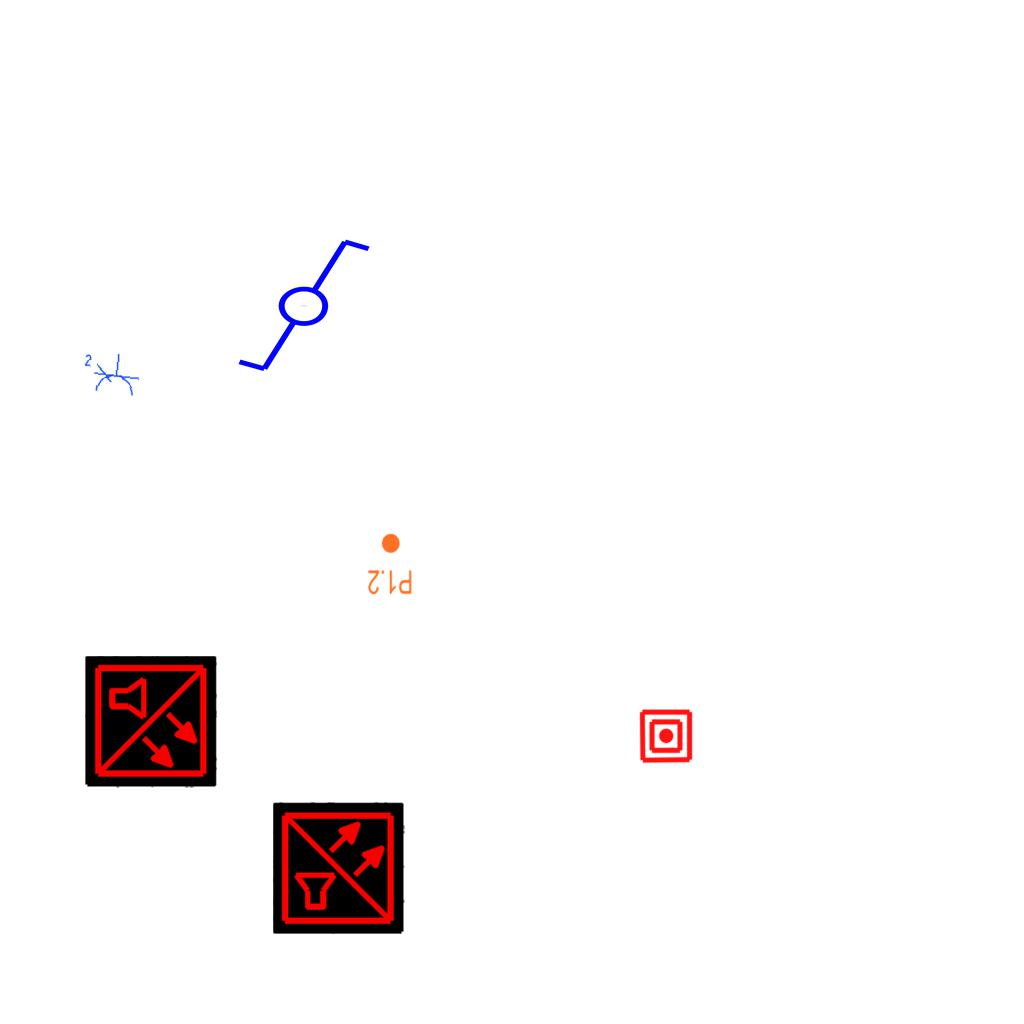Downlight_LED_Einbauleuchten_Flur: (367, 532, 413, 596)
NAM-Nichtautomatischer_Melder: (638, 708, 694, 764)
OKW_Multisensormelder_(Kombination_optischer_Rauch-Kahlenmonoxid_Waerme-Melder): (85, 656, 217, 788), (273, 802, 405, 934)
Schukosteckdose_mehrfach: (77, 348, 143, 400)
Wechselschalter: (217, 232, 374, 376)
